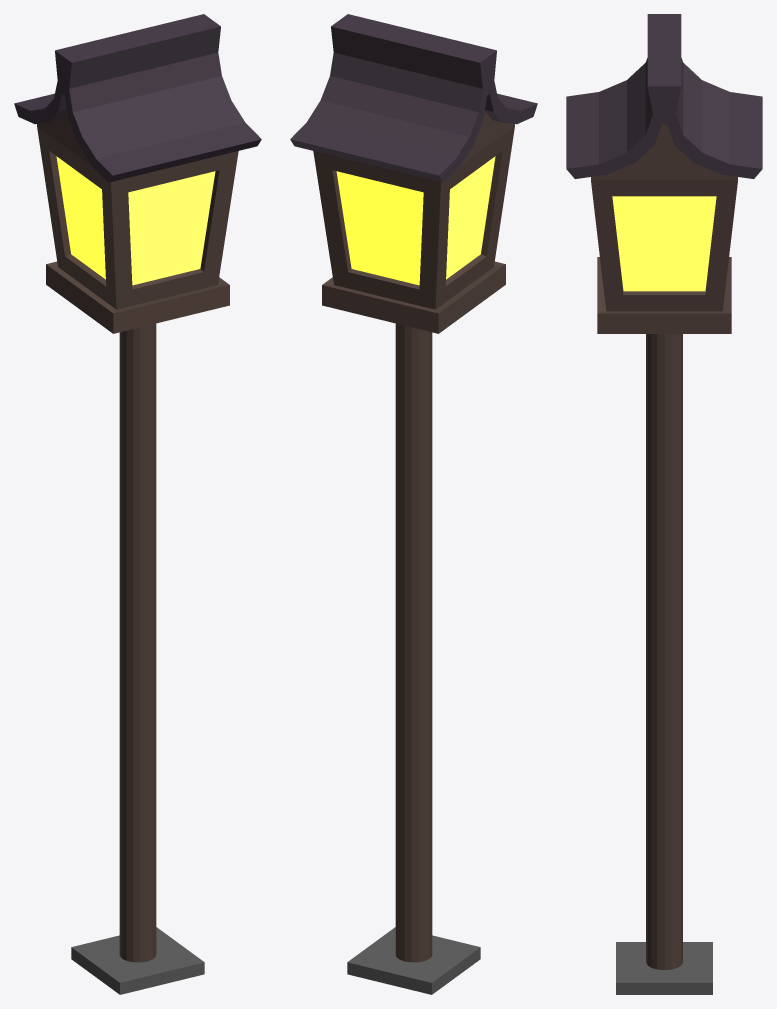
File: Lamp1.fbx
The picture shows the model from 3 angles, left to right: view 1: azimuth 30°, elevation 25°; view 2: azimuth 150°, elevation 25°; view 3: azimuth 270°, elevation 25°; orthographic projection.
Visible parts, largest first — view 1: lamp1.top, lamp1.pole, lamp1.head, lamp1.light, lamp1.base; view 2: lamp1.top, lamp1.pole, lamp1.head, lamp1.light, lamp1.base; view 3: lamp1.pole, lamp1.top, lamp1.head, lamp1.light, lamp1.base.
Part boxes in pixels (x1=…): lamp1.top: x1=14, y1=14, x2=261, y2=182; lamp1.pole: x1=119, y1=323, x2=156, y2=962; lamp1.head: x1=37, y1=111, x2=238, y2=333; lamp1.light: x1=56, y1=156, x2=215, y2=285; lamp1.base: x1=71, y1=927, x2=204, y2=994; lamp1.top: x1=290, y1=14, x2=537, y2=182; lamp1.pole: x1=395, y1=323, x2=432, y2=962; lamp1.head: x1=313, y1=111, x2=514, y2=333; lamp1.light: x1=336, y1=156, x2=495, y2=285; lamp1.base: x1=347, y1=927, x2=480, y2=994; lamp1.pole: x1=646, y1=334, x2=682, y2=970; lamp1.top: x1=566, y1=14, x2=762, y2=178; lamp1.head: x1=591, y1=124, x2=737, y2=333; lamp1.light: x1=612, y1=196, x2=716, y2=291; lamp1.base: x1=616, y1=942, x2=712, y2=994.
Size of the model in its own units: 4.04 by 3.53 by 20.96.
